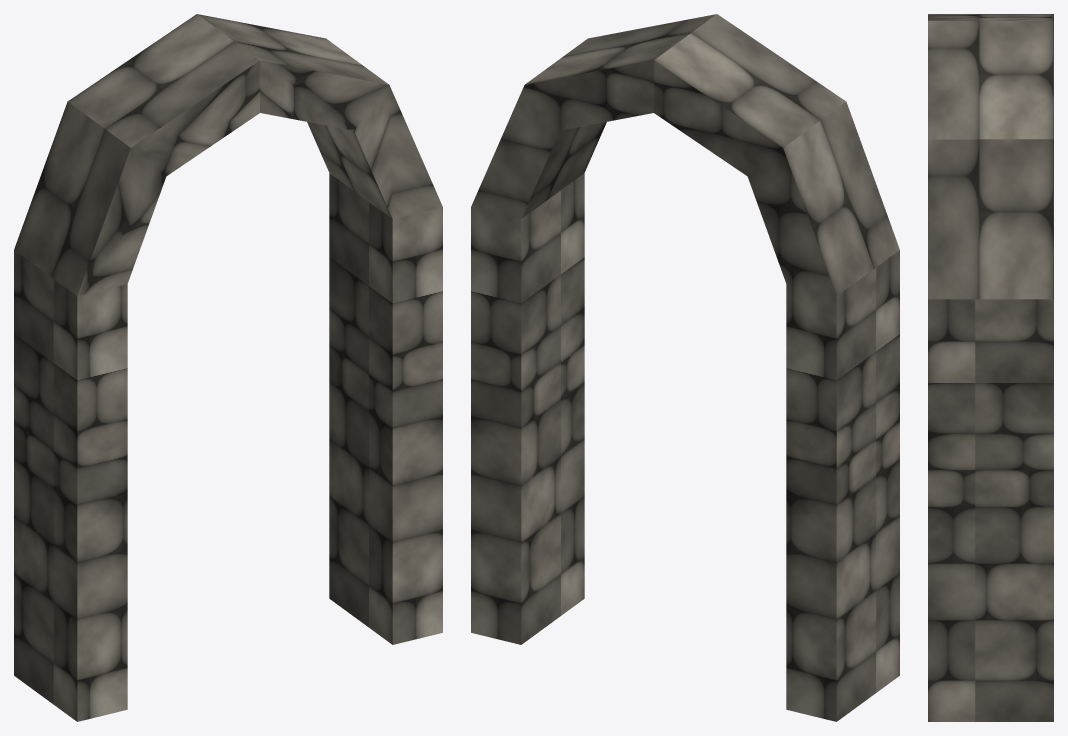
Rendered from DoorFrame_Round_Brick_LOD2.gltf.
3 views of the same model, side by side, from view 1: azimuth 30°, elevation 25°; view 2: azimuth 150°, elevation 25°; view 3: azimuth 270°, elevation 25° (orthographic).
Visible parts, largest first — view 1: DoorFrame_Round_Brick_LOD2; view 2: DoorFrame_Round_Brick_LOD2; view 3: DoorFrame_Round_Brick_LOD2.
Boxes of the visible parts, x1,y1,x2,y2 form: DoorFrame_Round_Brick_LOD2: (14,14,442,721); DoorFrame_Round_Brick_LOD2: (471,14,899,721); DoorFrame_Round_Brick_LOD2: (928,14,1053,721).
Bounding box in the file's own units: 1.6 × 2.58 × 0.48.
Materials: 1 (1 with a texture image).
